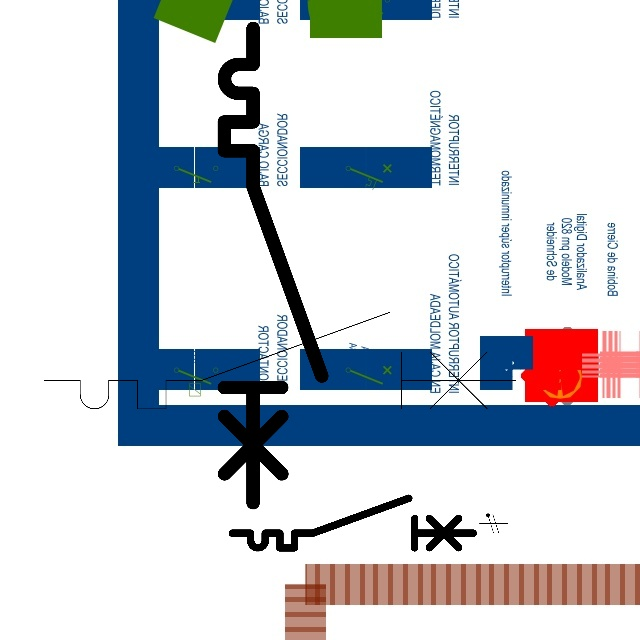interruptor_termomagnetico: (212, 16, 334, 515), (32, 300, 528, 421), (226, 492, 479, 554)
